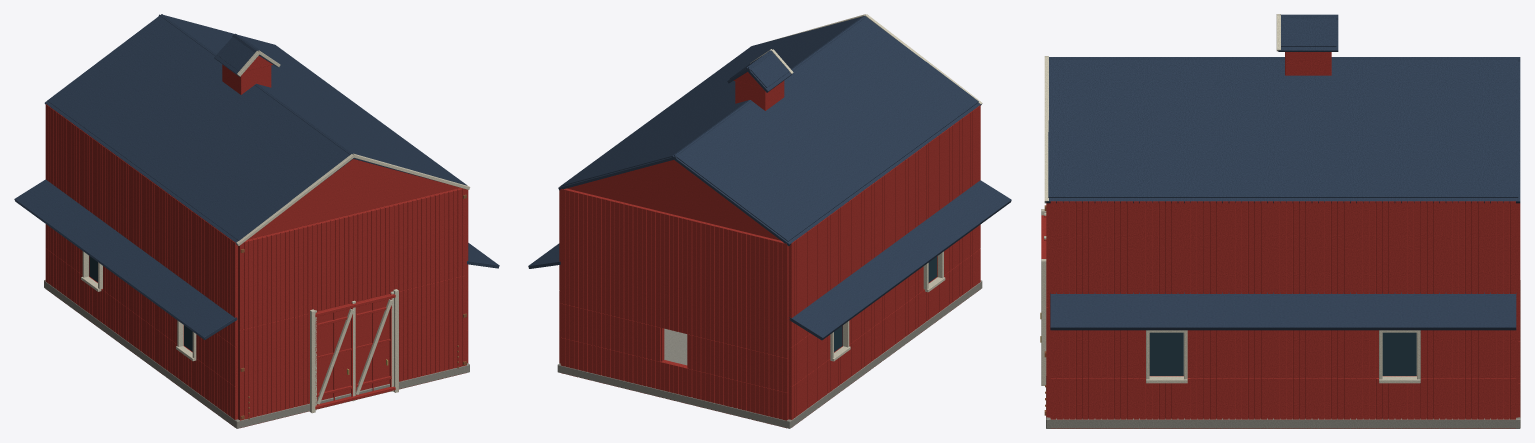
Rendered from BARN12_lod0.glb.
The picture shows the model from 3 angles, left to right: view 1: azimuth 30°, elevation 25°; view 2: azimuth 150°, elevation 25°; view 3: azimuth 270°, elevation 25°; orthographic projection. The views are drawn at different scales.
Visible parts, largest first — view 1: BARN12_LOD0; view 2: BARN12_LOD0; view 3: BARN12_LOD0.
Boxes of the visible parts, <box> form: BARN12_LOD0: <box>14,14,499,428</box>; BARN12_LOD0: <box>528,14,1011,428</box>; BARN12_LOD0: <box>1040,14,1520,428</box>.
Size of the model in its own units: 11.71 by 10.63 by 13.41.
10 materials, 7 textured.
